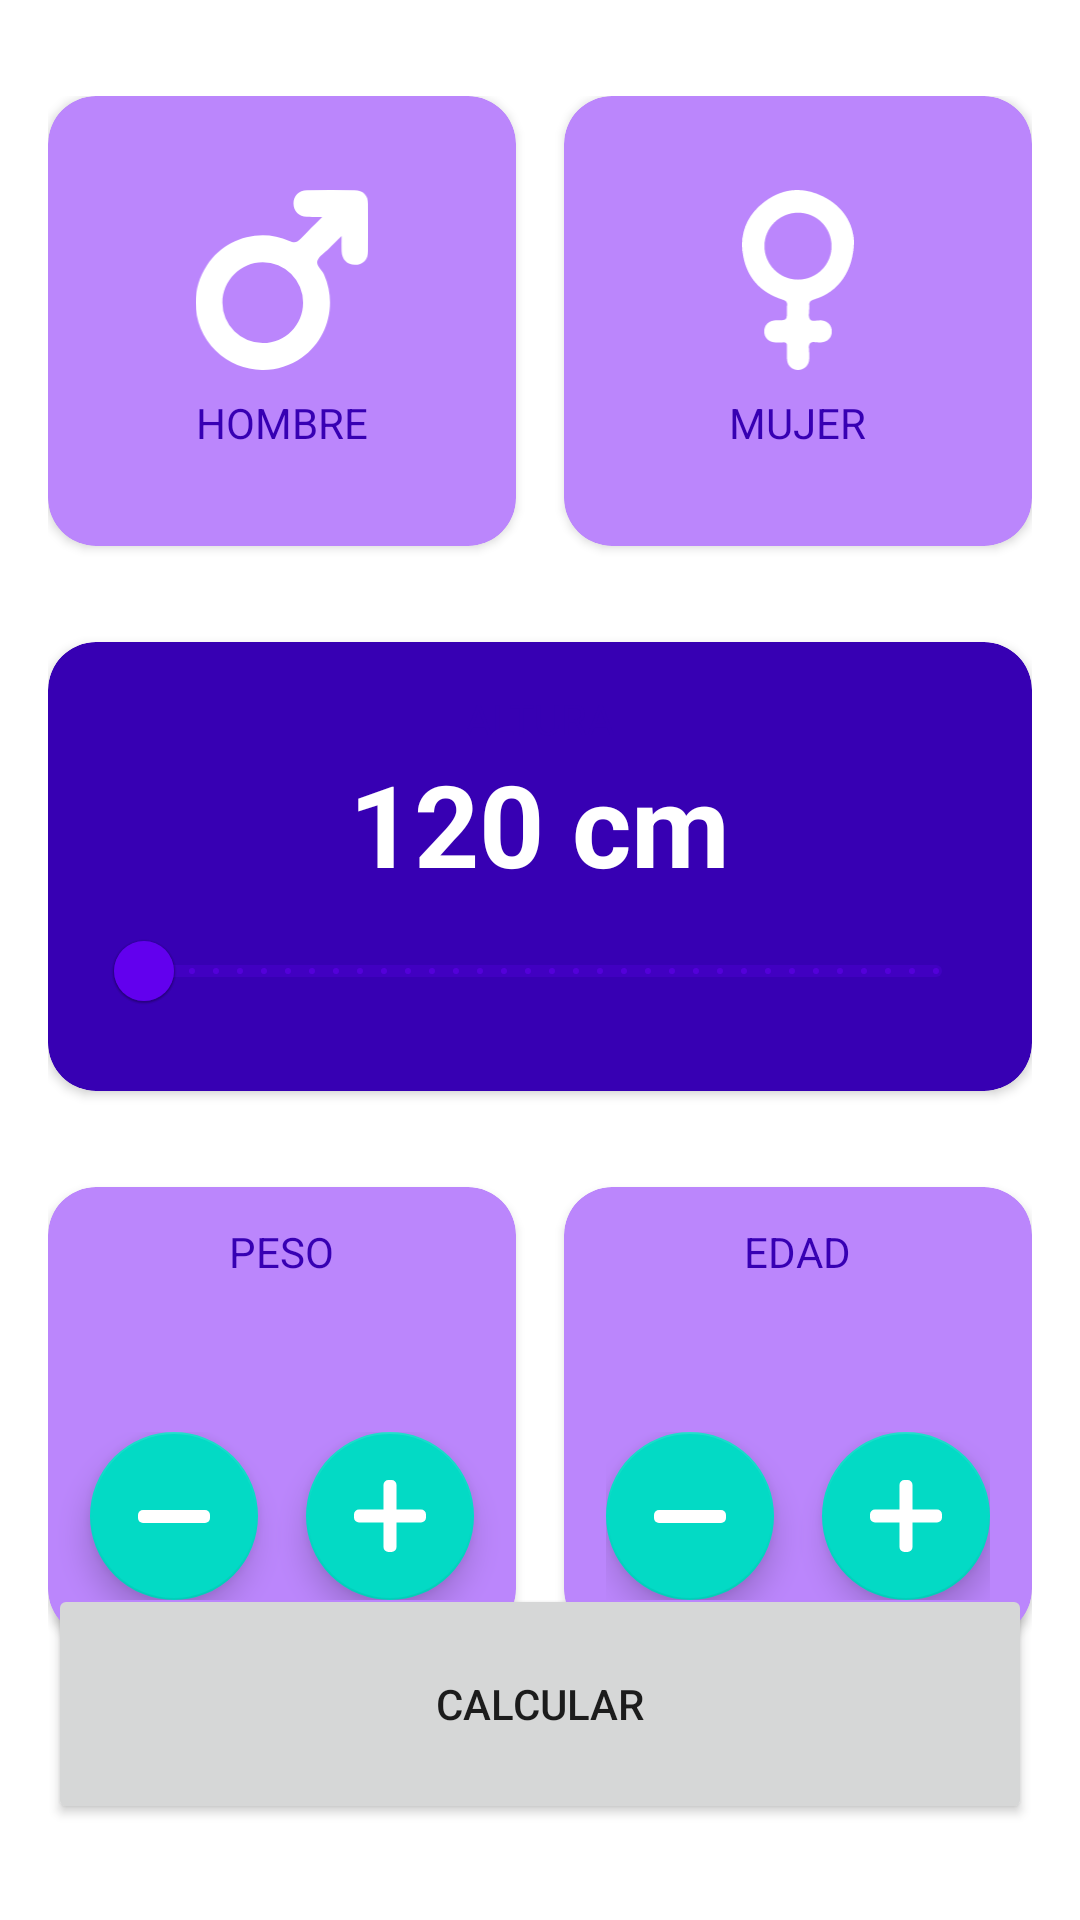

Point at icon controls on the screen. Image size 1080 × 1920, points as (x=x, y=y).
add: (x=390, y=1516), (x=906, y=1516)
subtract: (x=174, y=1516), (x=690, y=1516)
